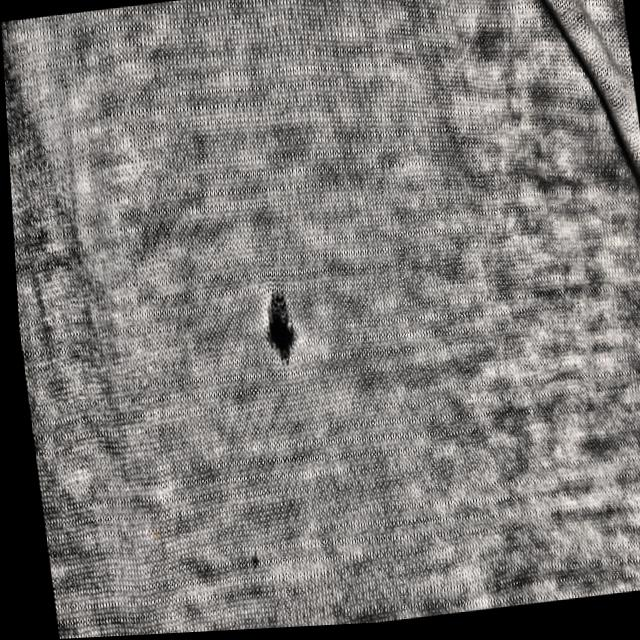Hole: (252, 273, 301, 391)
